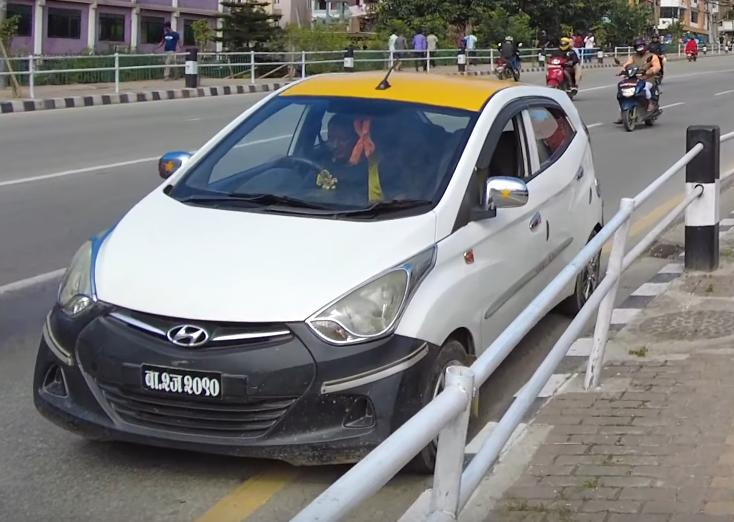scooter: (615, 57, 667, 135), (536, 52, 590, 102)
taxi: (28, 60, 628, 475)
